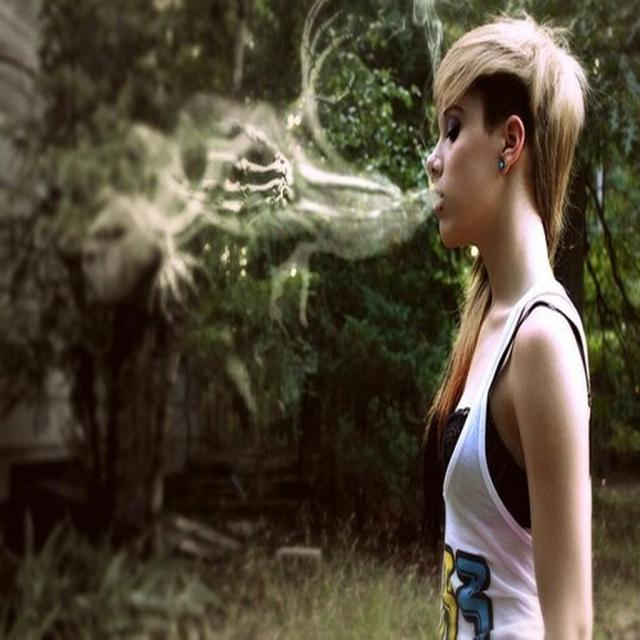smoking: (420, 11, 596, 637)
